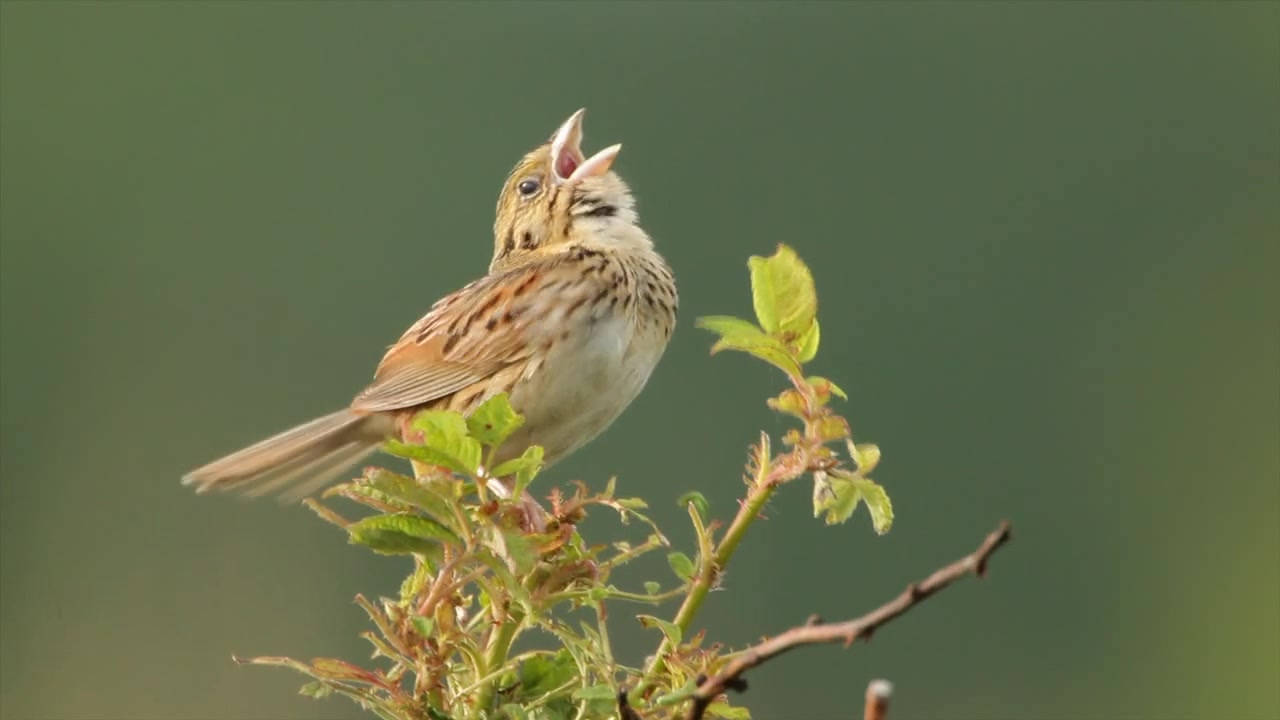bird: (180, 100, 683, 507)
